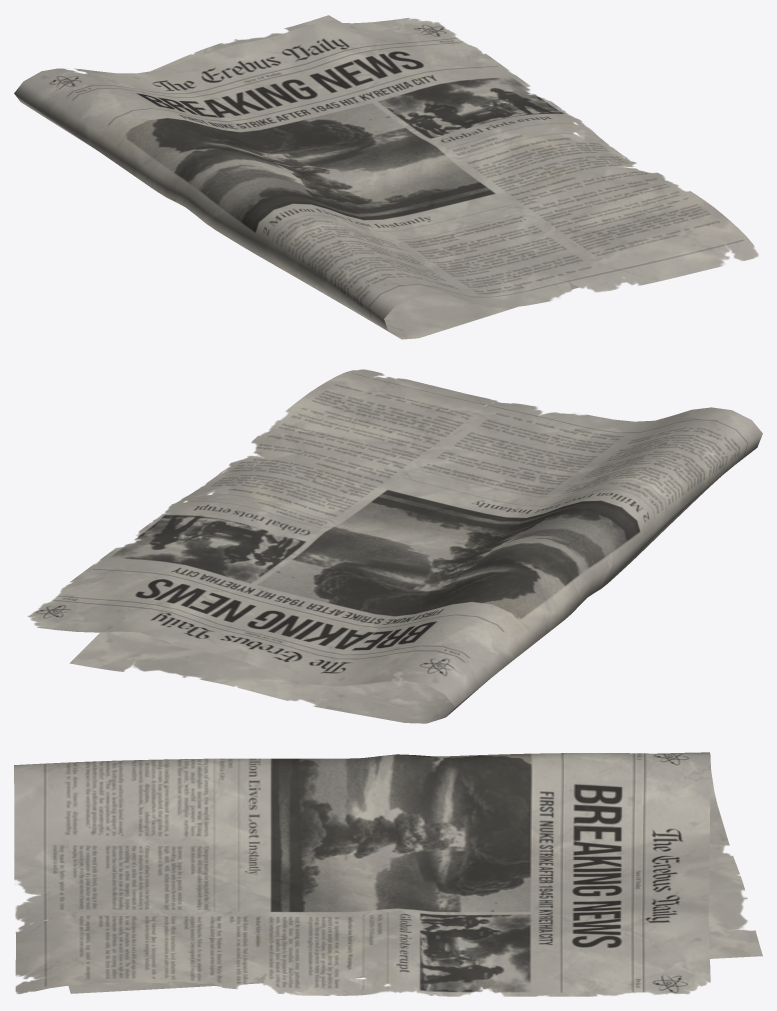
The model's file is old_newspaper.glb.
The picture shows the model from 3 angles, top to bottom: view 1: azimuth 30°, elevation 25°; view 2: azimuth 150°, elevation 25°; view 3: azimuth 270°, elevation 25°; orthographic projection. The views are drawn at different scales.
Parts seen in each view (by area): view 1: polySurface4_0; view 2: polySurface4_0; view 3: polySurface4_0.
Part boxes in pixels (x1,y1,x2,y2): polySurface4_0: (14, 15, 758, 339); polySurface4_0: (27, 369, 762, 723); polySurface4_0: (14, 752, 762, 996).
Size of the model in its own units: 13.07 by 1.52 by 19.27.
Materials: 1 (1 with a texture image).
